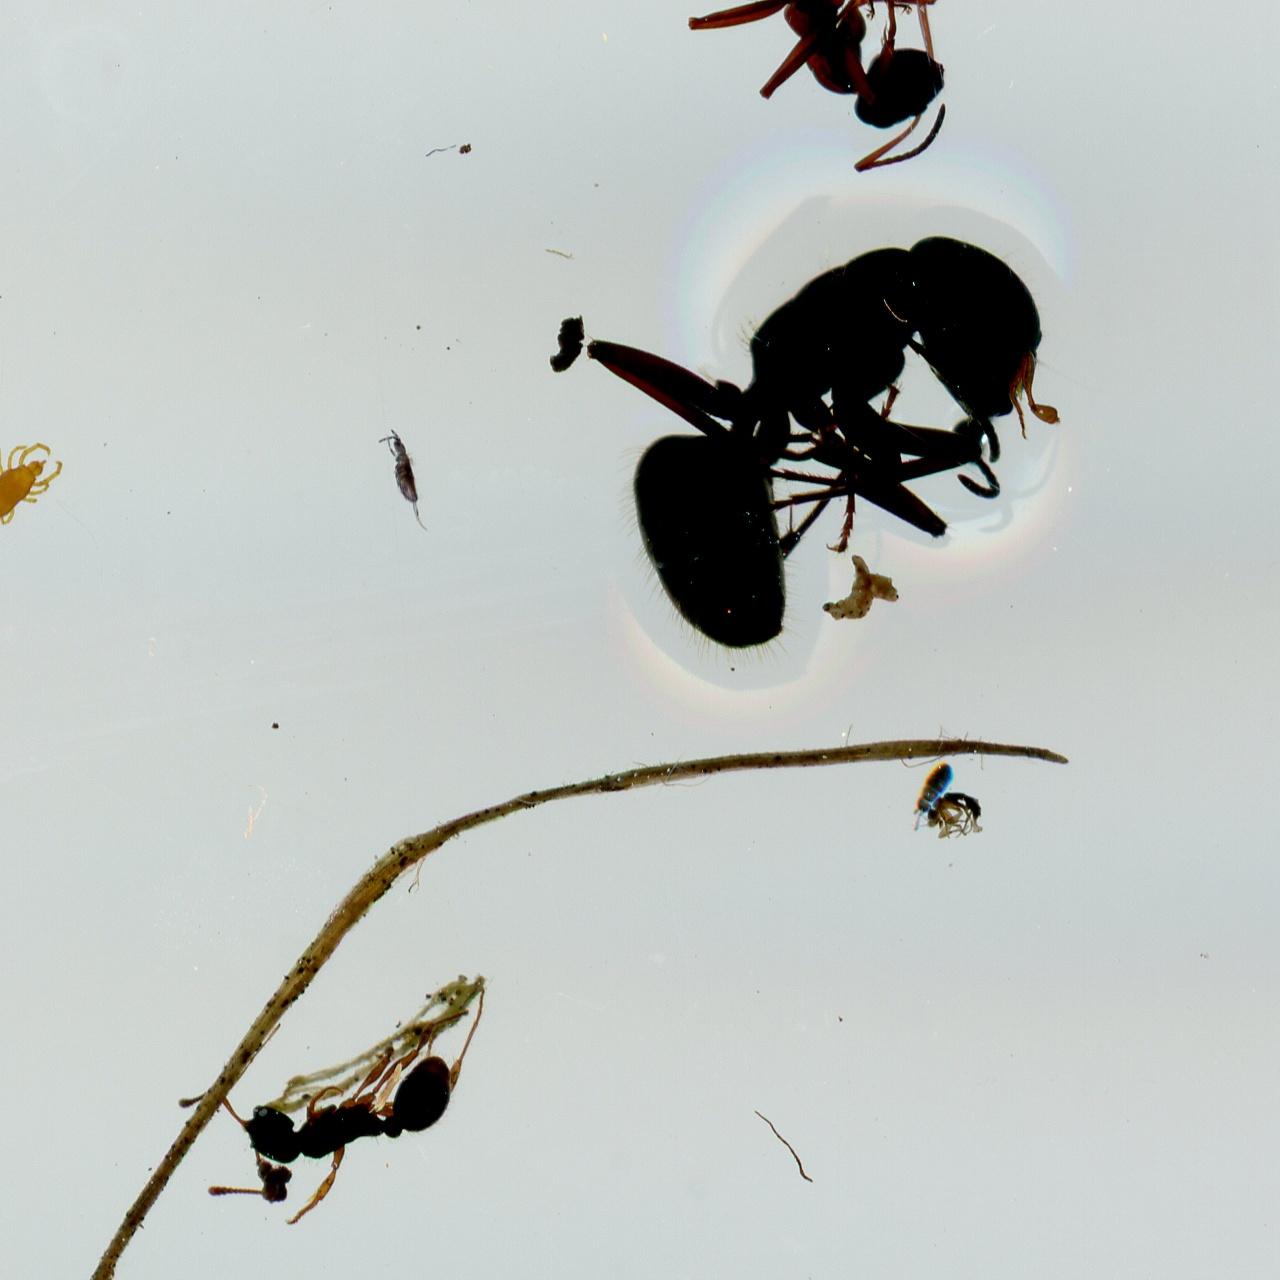arthropod: (578, 227, 1074, 671), (159, 948, 548, 1258), (679, 0, 1013, 178), (370, 419, 438, 544), (0, 440, 66, 530), (897, 754, 963, 838), (919, 790, 985, 841)
